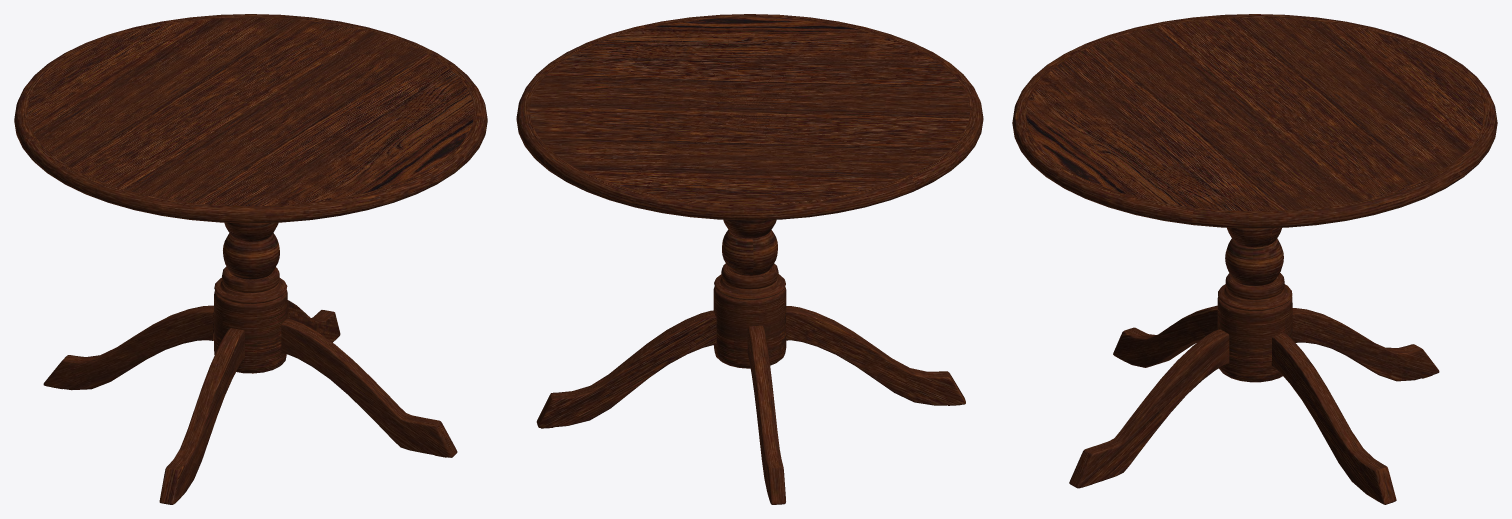
3 views of the same model, side by side, from view 1: azimuth 30°, elevation 25°; view 2: azimuth 150°, elevation 25°; view 3: azimuth 270°, elevation 25° (orthographic). The views are drawn at different scales.
Visible parts, largest first — view 1: round_wooden_table_01.002_0; view 2: round_wooden_table_01.002_0; view 3: round_wooden_table_01.002_0.
Boxes of the visible parts, bbox=[...] form: round_wooden_table_01.002_0: bbox=[14, 14, 487, 504]; round_wooden_table_01.002_0: bbox=[516, 14, 983, 504]; round_wooden_table_01.002_0: bbox=[1012, 14, 1497, 504].
Bounding box in the file's own units: 2.62 × 1.88 × 2.62.
2 materials, 1 textured.
